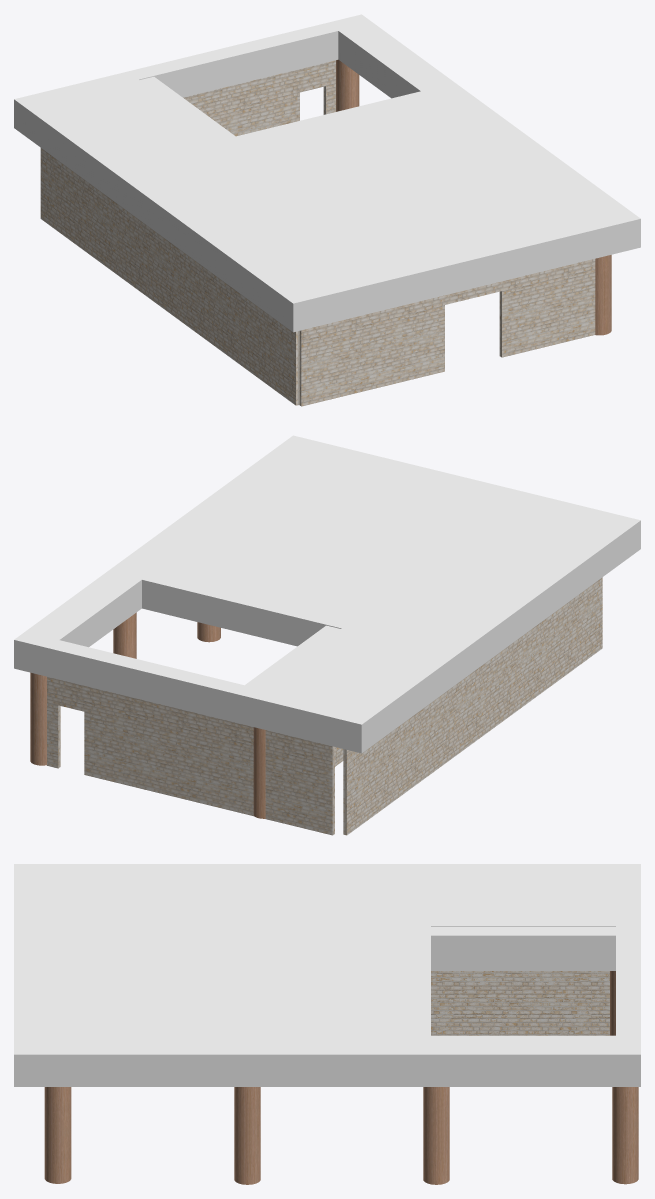
File: Pillers_Walls.fbx
The picture shows the model from 3 angles, top to bottom: view 1: azimuth 30°, elevation 25°; view 2: azimuth 150°, elevation 25°; view 3: azimuth 270°, elevation 25°; orthographic projection. The views are drawn at different scales.
Visible parts, largest first — view 1: Pillers_Walls; view 2: Pillers_Walls; view 3: Pillers_Walls.
Boxes of the visible parts, x1,y1,x2,y2 form: Pillers_Walls: (14, 14, 640, 406); Pillers_Walls: (14, 435, 640, 835); Pillers_Walls: (14, 864, 640, 1184).
Size of the model in its own units: 14.6 by 4.85 by 20.3.
4 materials, 3 textured.
